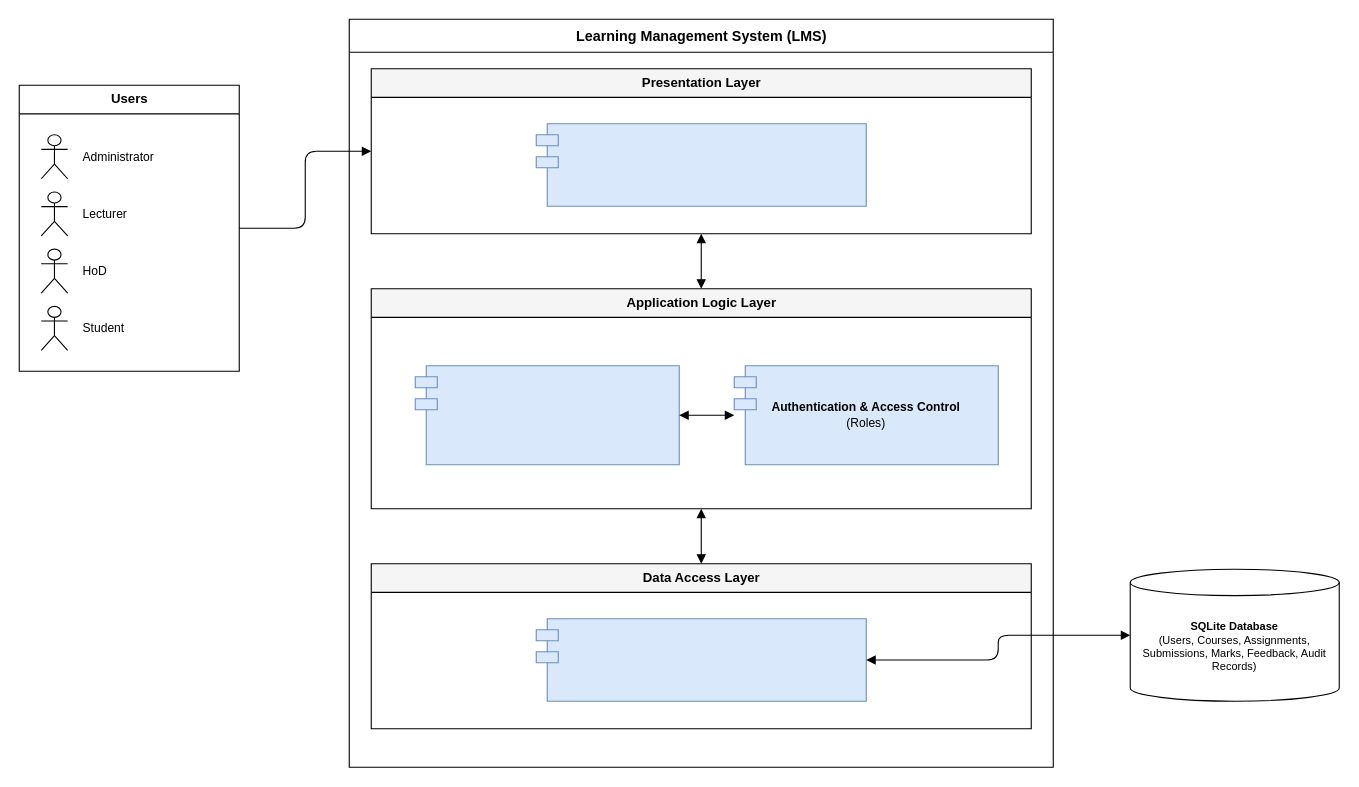
This 1359x787 diagram has some shape labels left out. Here are the shapes that lost their labels. From the top down, the centre of each, then its label:
pixel 700 164: User Interface (Login, Menus, Forms, Reports)
pixel 546 415: Business Logic (Rules, Validation, Permissions)
pixel 700 659: Data Access Object (DAO) (CRUD Operations)
